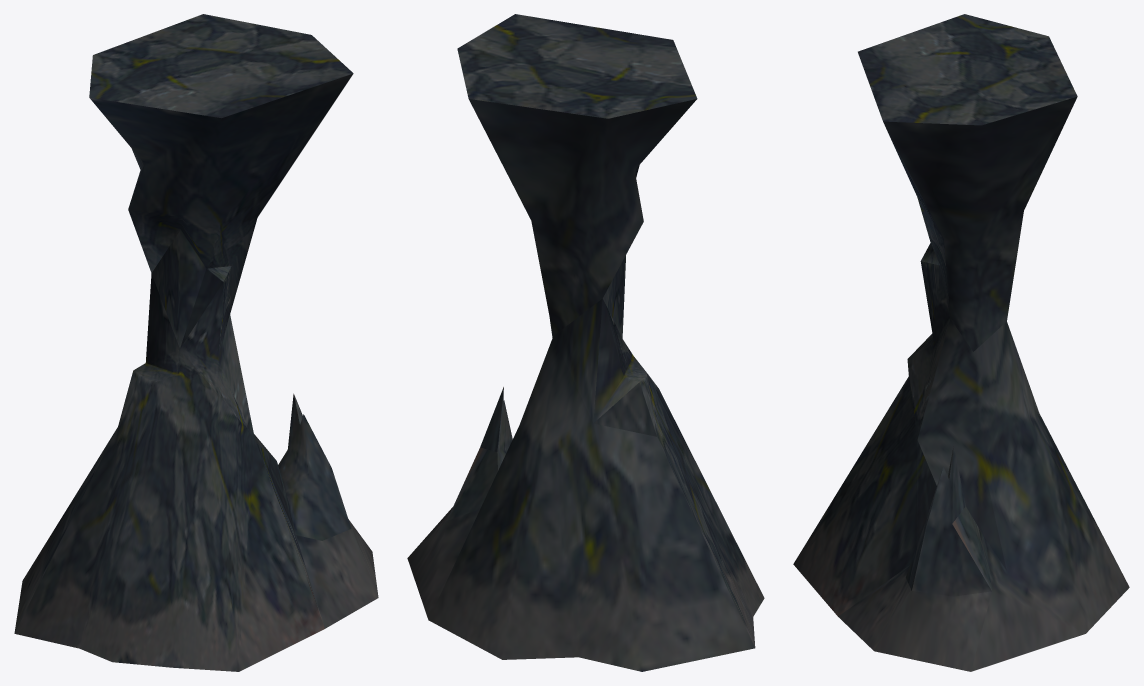
File: tlfb_shizhu2.FBX
3 views of the same model, side by side, from view 1: azimuth 30°, elevation 25°; view 2: azimuth 150°, elevation 25°; view 3: azimuth 270°, elevation 25° (orthographic).
Visible parts, largest first — view 1: tlfb_shizhu2; view 2: tlfb_shizhu2; view 3: tlfb_shizhu2.
Boxes of the visible parts, x1,y1,x2,y2 form: tlfb_shizhu2: (14, 14, 378, 671); tlfb_shizhu2: (407, 14, 764, 671); tlfb_shizhu2: (793, 14, 1129, 671).
Size of the model in its own units: 1139 by 1624 by 953.
